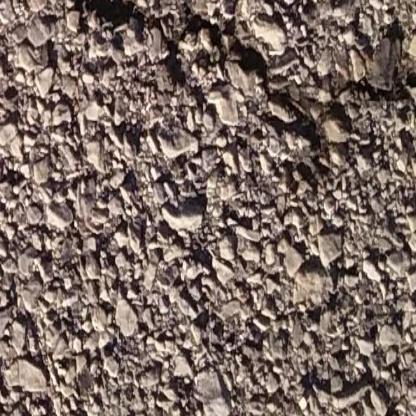Cracks: (0, 0, 416, 161)
